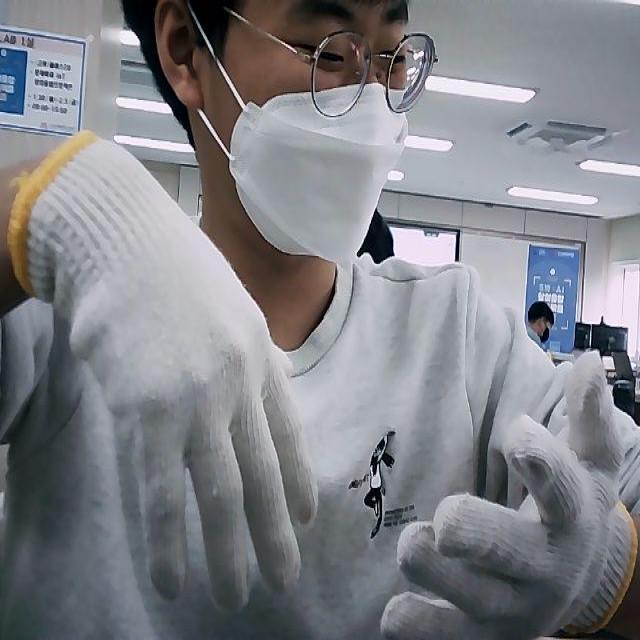GLOVE: (12, 132, 318, 607), (381, 350, 640, 640)
